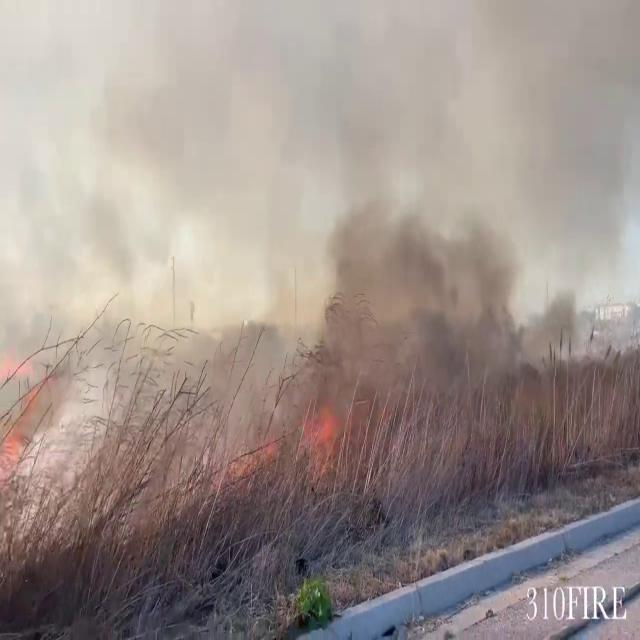Smoke: (8, 0, 640, 458)
